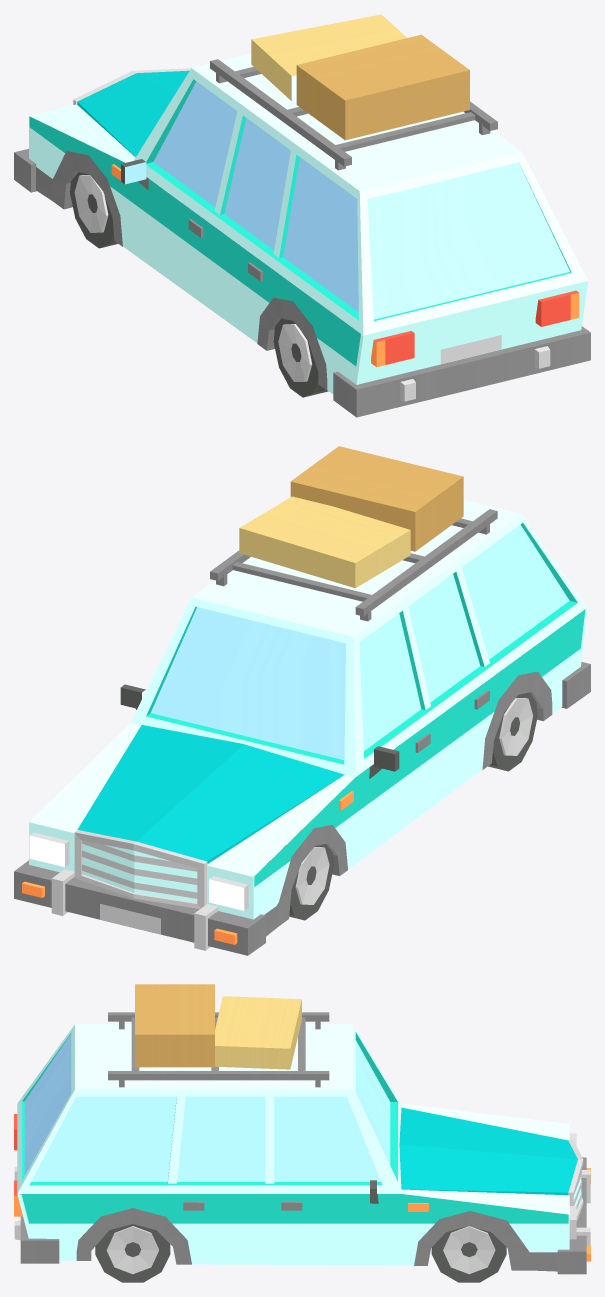
Rendered from transport_old.009.glb.
3 renders of one model, top to bottom at view 1: azimuth 30°, elevation 25°; view 2: azimuth 150°, elevation 25°; view 3: azimuth 270°, elevation 25°, orthographic. The views are drawn at different scales.
Visible parts, largest first — view 1: transport_old.009(Clone); view 2: transport_old.009(Clone); view 3: transport_old.009(Clone).
Part boxes in pixels (x1,y1,x2,y2): transport_old.009(Clone): [14, 14, 590, 417]; transport_old.009(Clone): [14, 446, 590, 955]; transport_old.009(Clone): [14, 984, 590, 1282].
Size of the model in its own units: 1.48 by 1.43 by 3.26.
1 material, 1 textured.
